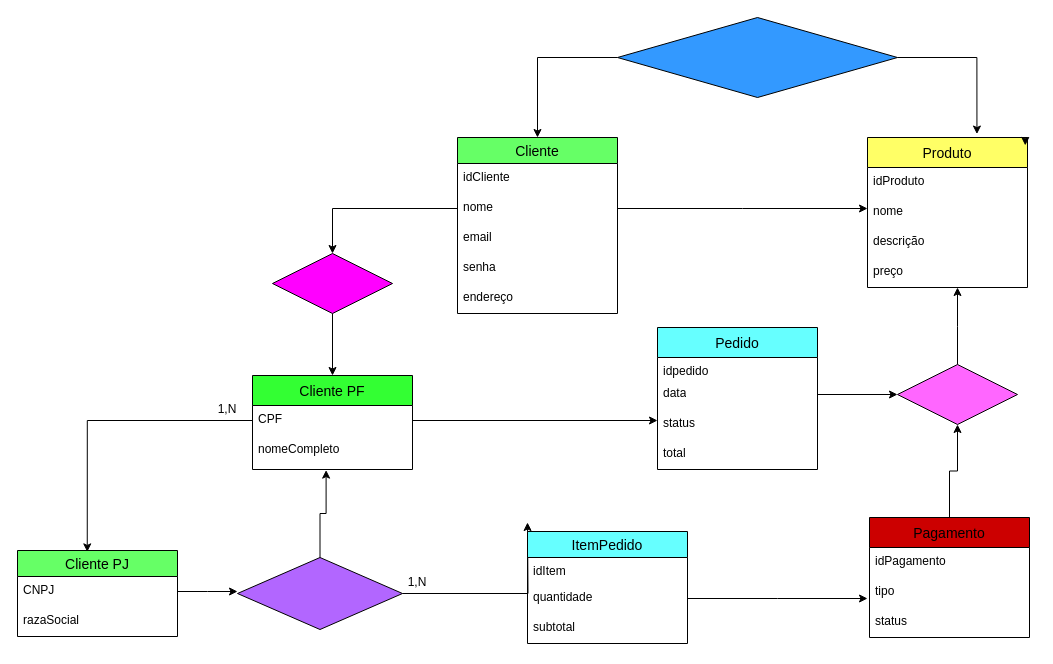
The diagram is 1053 pixels wide and 664 high, and some of its shapes have lost their labels. Here are the shapes that lost their labels. From the top down, the centre of each, then its label:
At point 757,57: "CONTA".
At point 332,283: "XOR".
At point 957,394: "Contém".
At point 319,593: "Faz".
